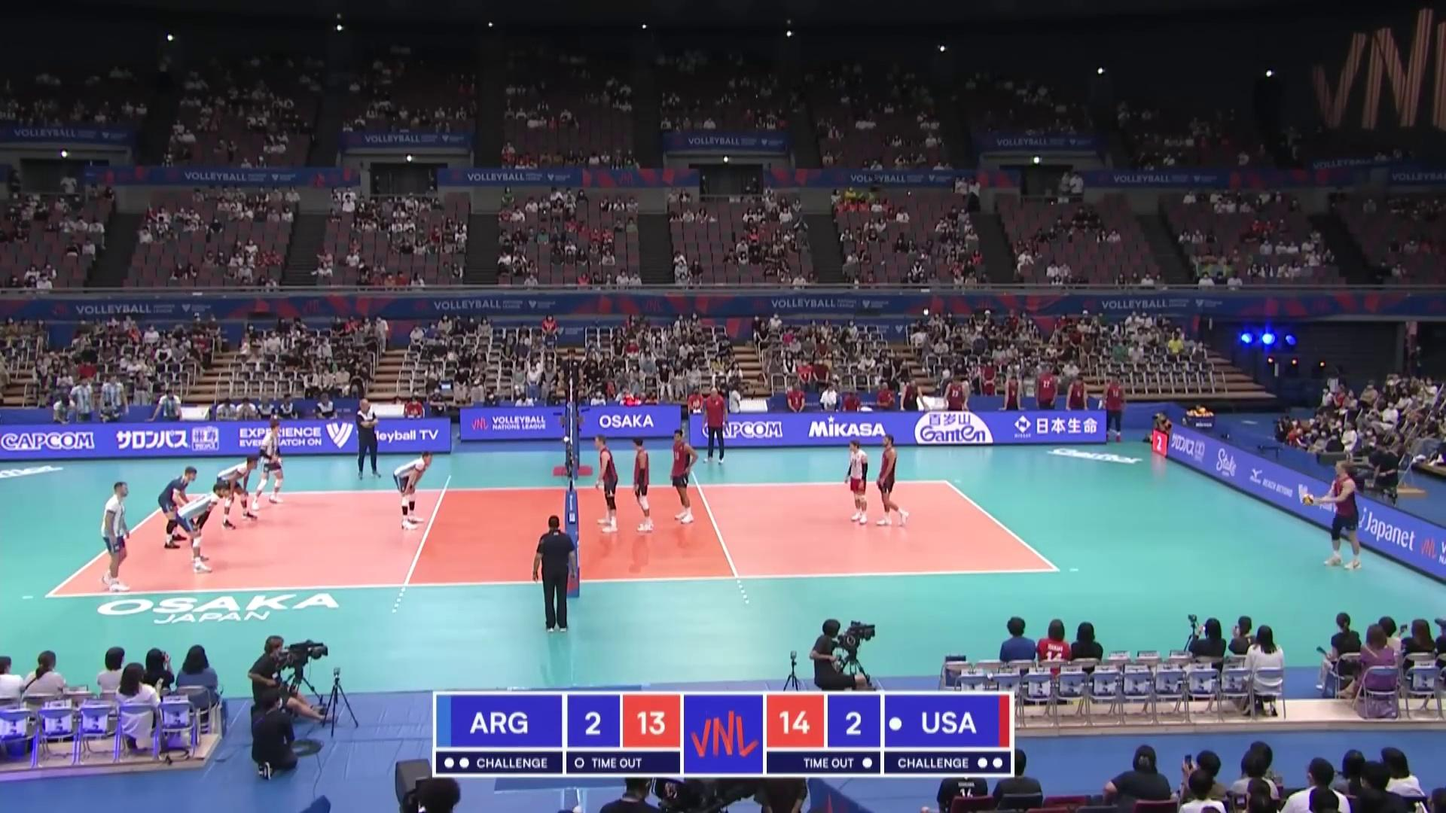player: (1313, 460, 1362, 570), (177, 483, 226, 575), (99, 482, 130, 592), (156, 466, 198, 547), (392, 449, 435, 528), (877, 433, 912, 528), (213, 456, 257, 528), (669, 429, 700, 523), (593, 434, 621, 534), (629, 437, 658, 532), (252, 421, 284, 505), (845, 439, 870, 525)
refree: (534, 514, 579, 631), (561, 347, 583, 414)
